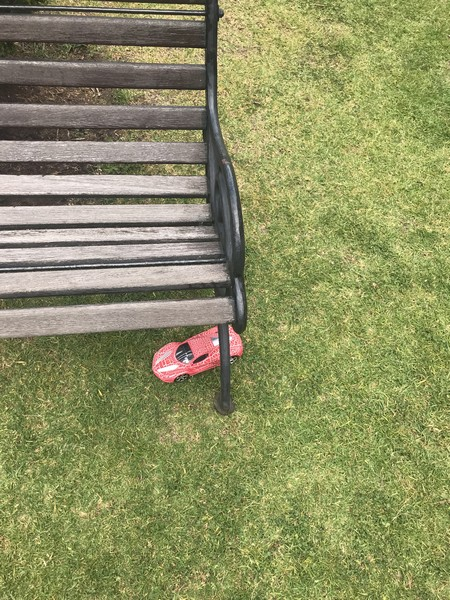RC: (153, 324, 244, 385)
